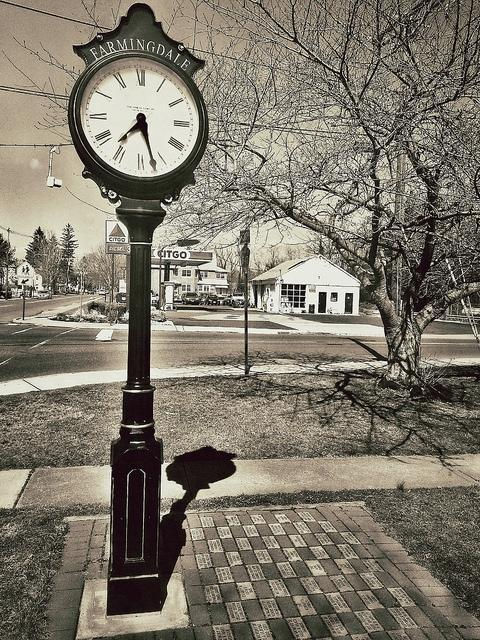car: (228, 292, 246, 308), (182, 292, 198, 305), (203, 294, 221, 305), (36, 290, 52, 300)
